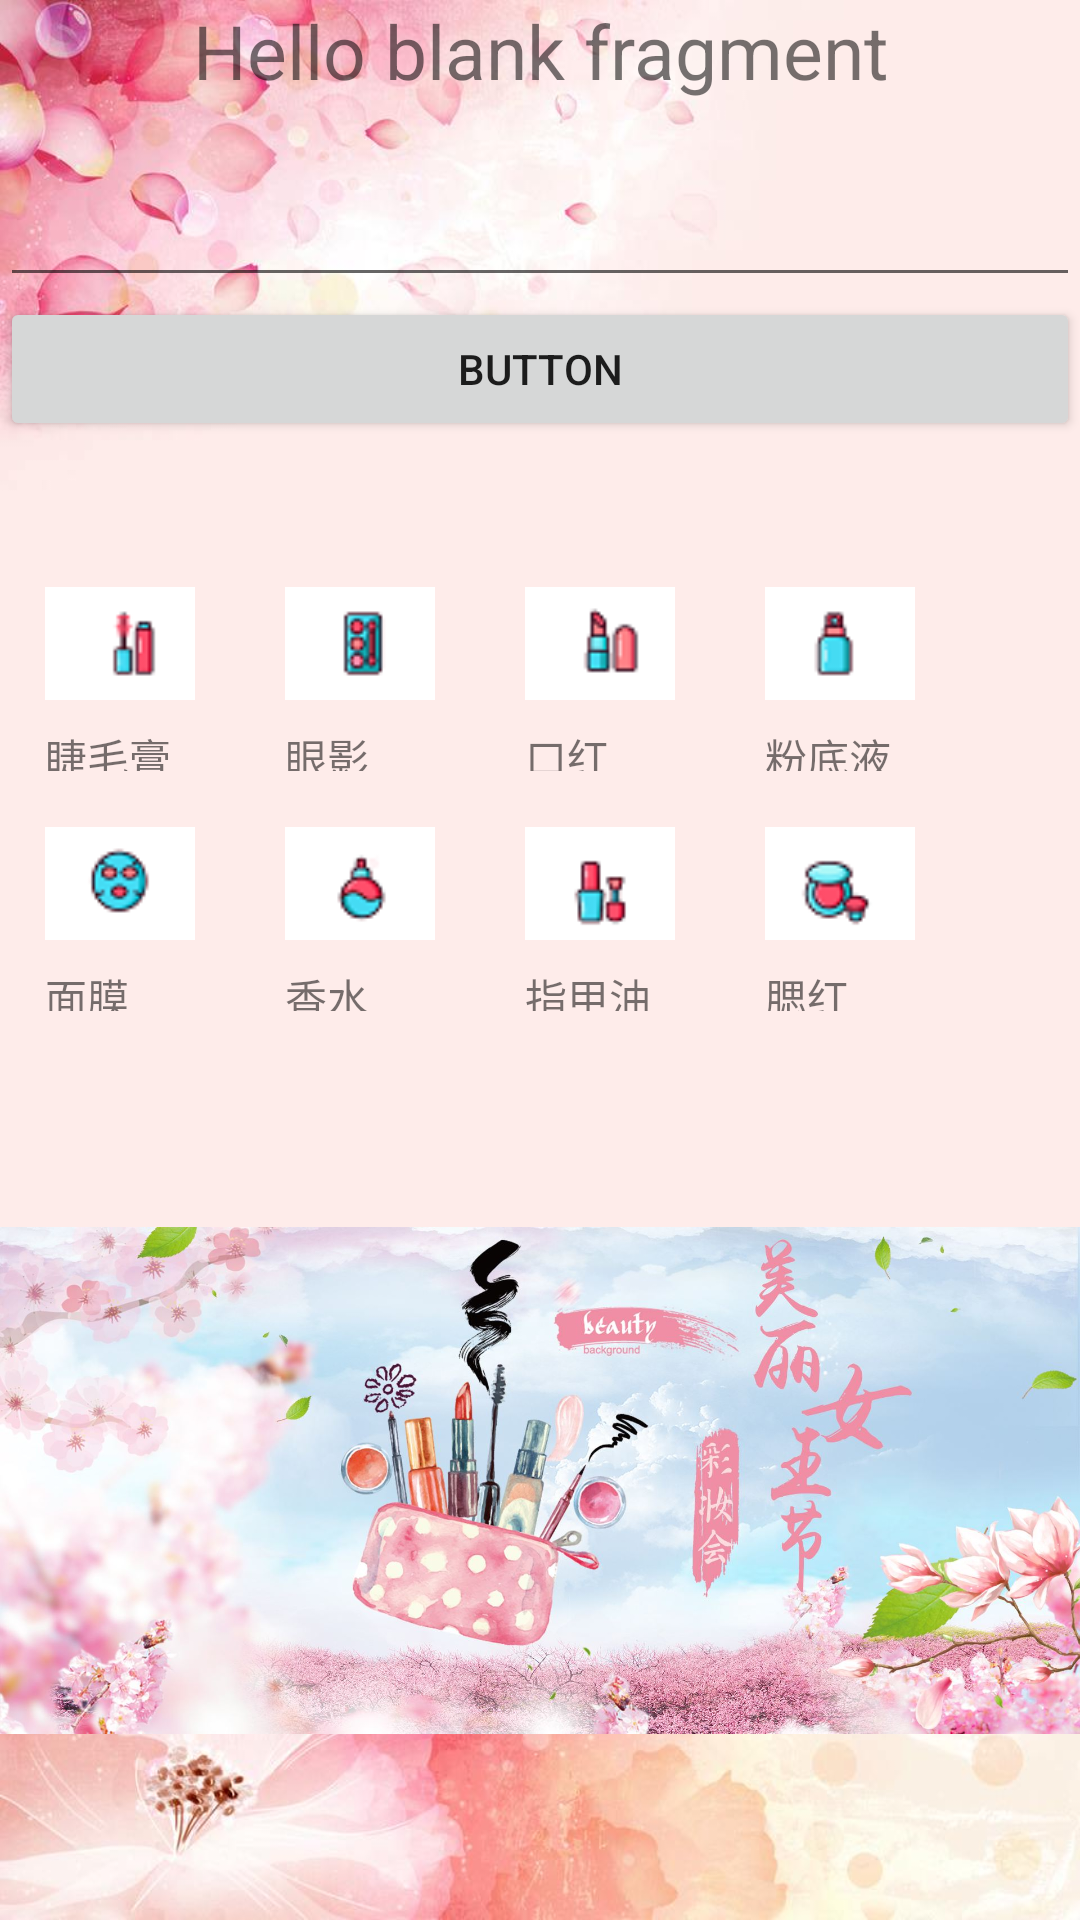

Where to tap for icons on this 1080px×1920px app screen, as [x,y]:
eyeshadow: [363,643]
lip: [611,641]
perfume: [362,887]
polish: [600,892]
rouge: [836,892]
